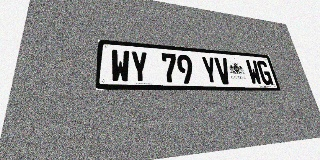7: (160, 53, 179, 83)
9: (176, 54, 195, 84)
G: (256, 60, 274, 85)
V: (214, 57, 232, 84)
W: (110, 49, 130, 83), (245, 59, 263, 85)
Y: (130, 51, 149, 83), (200, 56, 219, 84)
